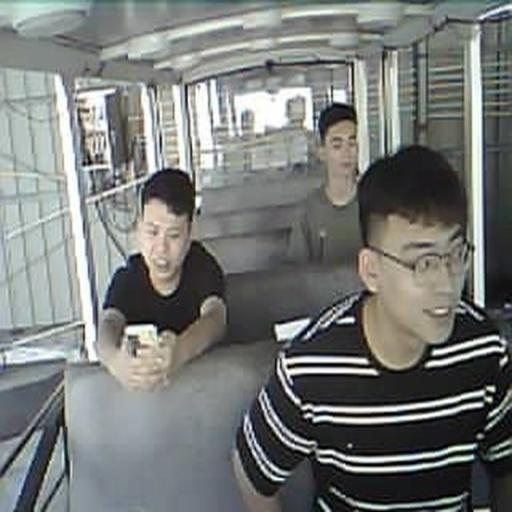persona: (230, 143, 511, 511), (96, 166, 230, 394), (286, 101, 366, 268)
